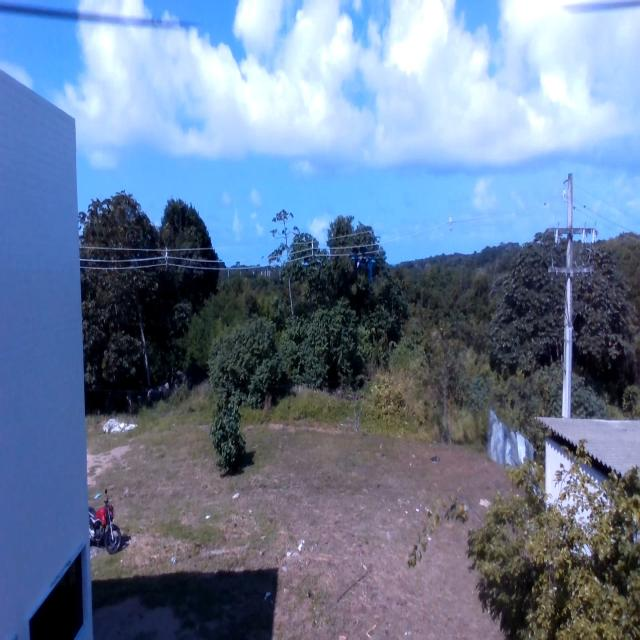-uav-: (346, 238, 384, 292)
